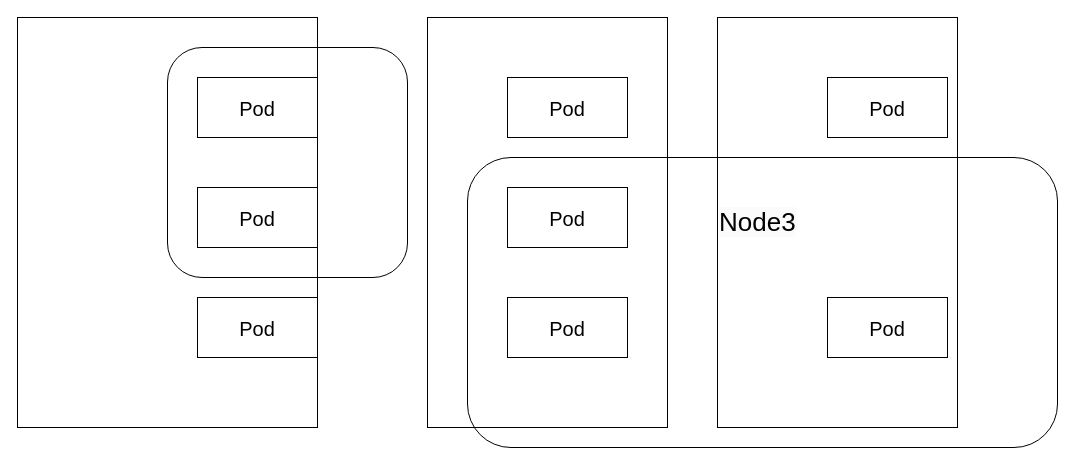
This 1075x465 diagram has some shape labels left out. The shapes that lost their labels are listed below. From the top down, each one's box as (x1, y1, x2, y2) in pixels, then its label:
(166, 46, 408, 278): Cluster1
(16, 16, 318, 428): Node1
(426, 16, 668, 428): Node2
(466, 156, 1058, 448): Cluster2
